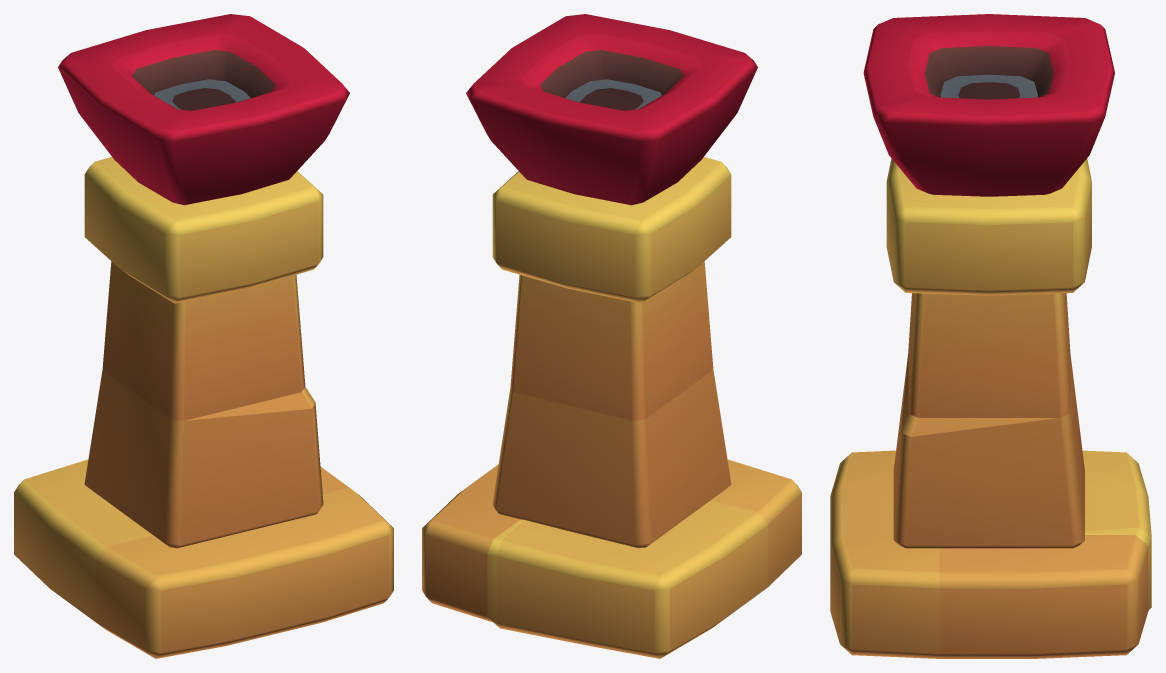
File: torch_standing_red.fbx
3 views of the same model, side by side, from view 1: azimuth 30°, elevation 25°; view 2: azimuth 150°, elevation 25°; view 3: azimuth 270°, elevation 25° (orthographic). The views are drawn at different scales.
Visible parts, largest first — view 1: torch_standing_red; view 2: torch_standing_red; view 3: torch_standing_red.
Part boxes in pixels (left/top/right/bottom): torch_standing_red: left=14, top=14, right=393, bottom=658; torch_standing_red: left=422, top=14, right=801, bottom=658; torch_standing_red: left=830, top=14, right=1151, bottom=658.
Bounding box in the file's own units: 167 × 309 × 168.
